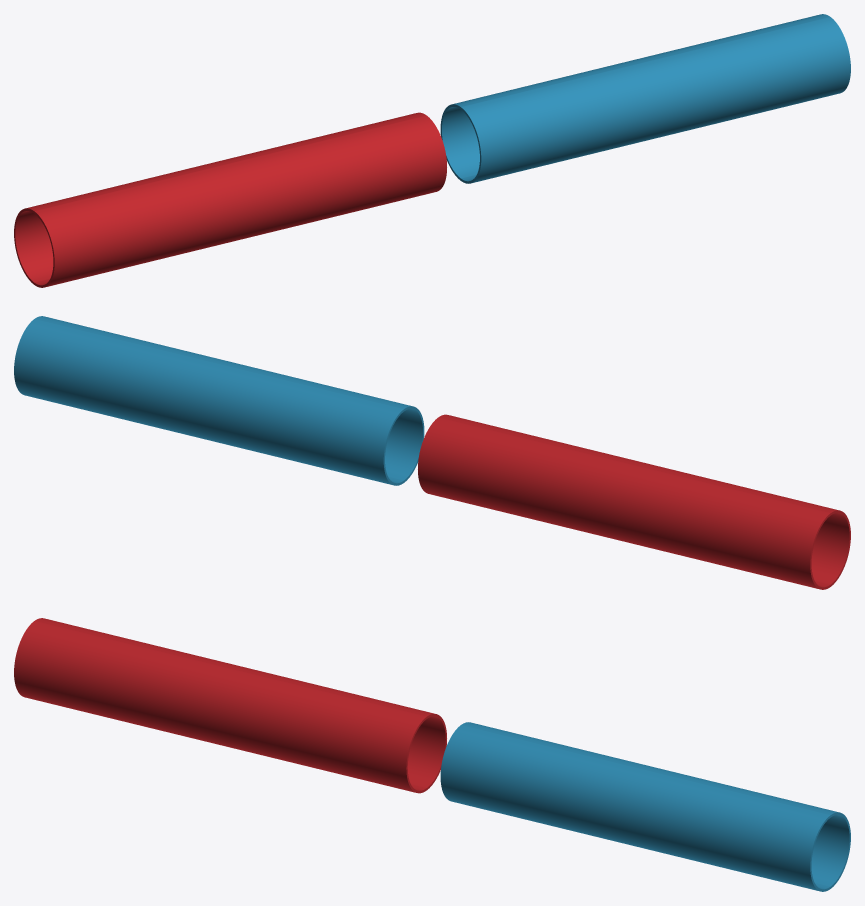
Rendered from rupture_disc_pressure.glb.
3 views of the same model, one above another, from view 1: azimuth 30°, elevation 25°; view 2: azimuth 150°, elevation 25°; view 3: azimuth 330°, elevation 25° (orthographic).
Visible parts, largest first — view 1: pr__front, pr__back; view 2: pr__back, pr__front; view 3: pr__front, pr__back.
Part boxes in pixels (x1,y1,x2,y2): pr__front: (34, 17, 850, 287); pr__back: (14, 14, 829, 284); pr__back: (14, 319, 830, 589); pr__front: (35, 316, 850, 586); pr__front: (14, 621, 830, 891); pr__back: (35, 618, 850, 888).
Size of the model in its own units: 1.4 by 0.124 by 0.124.
